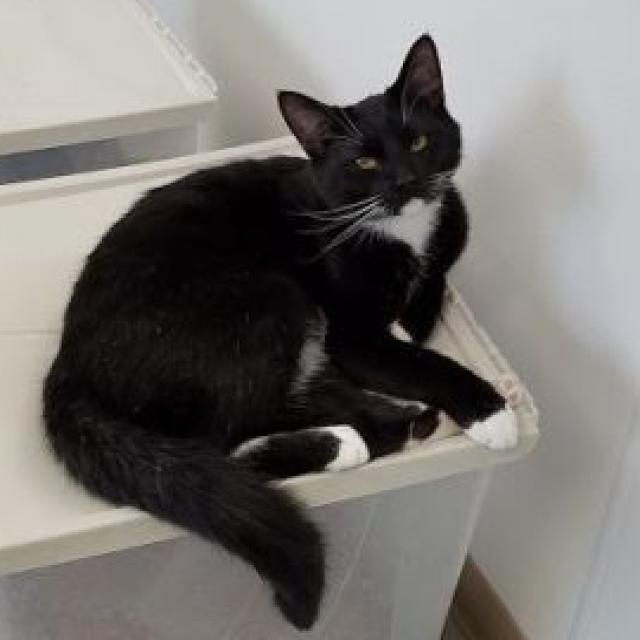Tuxedo: (39, 28, 524, 637)
